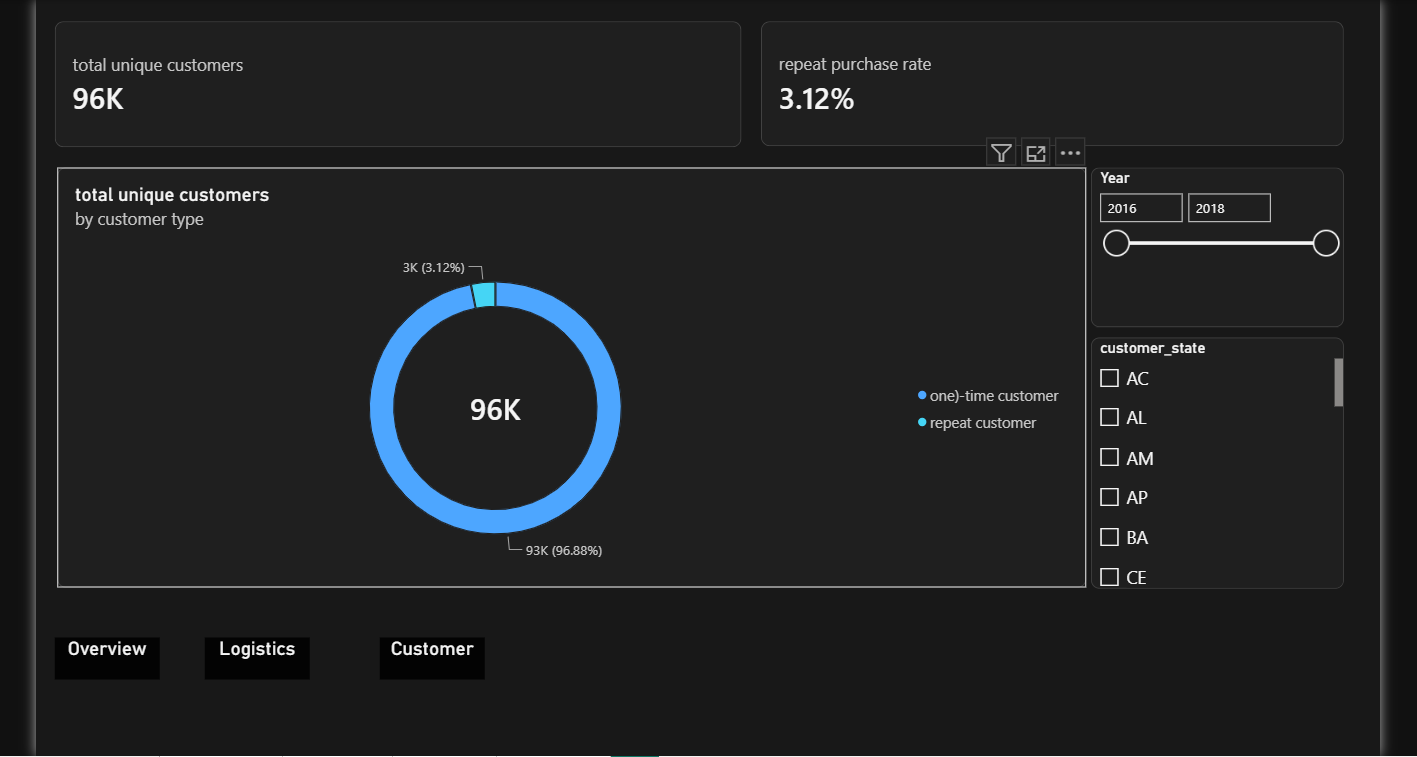

What the dashboard file says about the page in this screenshot:
{"tool":"powerbi","page":{"name":"custemer","canvas":[1280,720],"ordinal":3},"visuals":[{"type":"cardVisual","fields":{"Data":["orders_.total unique customers"]},"box":[17.9,20.2,654.8,120.2],"z":0},{"type":"slicer","fields":{"Values":["orders_.customer_state"]},"box":[1004.9,321,240.7,239.5],"z":1000},{"type":"cardVisual","fields":{"Data":["orders_.repeat purchase rate"]},"box":[690.1,19.8,555.6,119.8],"z":2000},{"type":"donutChart","fields":{"Category":["orders_.customer type"],"Y":["orders_.total unique customers"]},"box":[20,160,980,400],"z":3000},{"type":"slicer","fields":{"Values":["order_items_.order_delivered_customer_date.Variation.Date Hierarchy.Year"]},"box":[1004.9,159.3,240.7,151.9],"z":4000},{"type":"actionButton","title":"Overview","box":[17.3,607.4,100,40],"z":4001},{"type":"actionButton","title":"Logistics","box":[160.5,607.4,100,40],"z":4002},{"type":"actionButton","title":"Customer","box":[327.2,607.4,100,40],"z":4003}]}

Visuals, with their boxes on the page's 1280x720 design canvas (x1, y1, x2, y2). These are canvas units, not pixel positions in the 1417x757 screenshot, which may show the page scaled, cropped or inside an application window:
cardVisual - orders_.total unique customers: box=[18, 20, 673, 140]
slicer - orders_.customer_state: box=[1005, 321, 1246, 560]
cardVisual - orders_.repeat purchase rate: box=[690, 20, 1246, 140]
donutChart - orders_.customer type x orders_.total unique customers: box=[20, 160, 1000, 560]
slicer - order_items_.order_delivered_customer_date.Variation.Date Hierarchy.Year: box=[1005, 159, 1246, 311]
"Overview" actionButton: box=[17, 607, 117, 647]
"Logistics" actionButton: box=[160, 607, 260, 647]
"Customer" actionButton: box=[327, 607, 427, 647]
